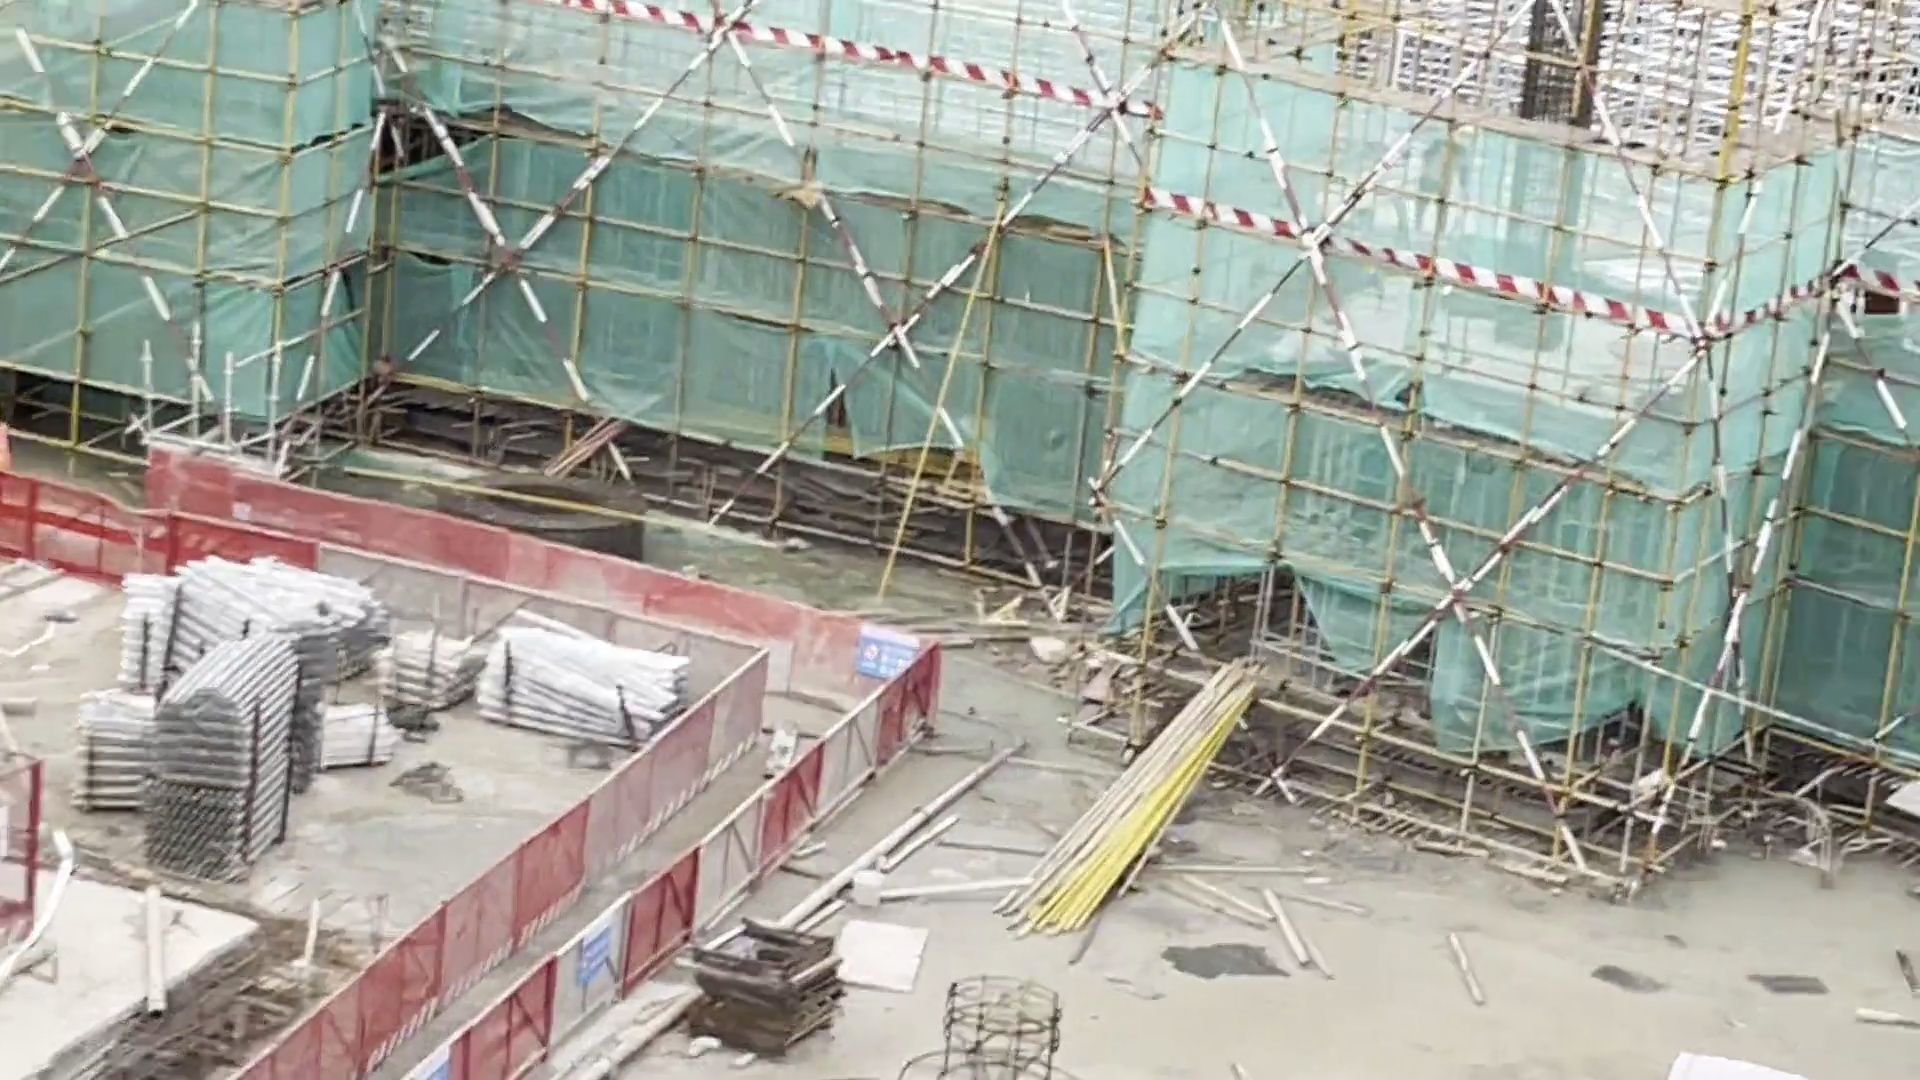fence: (34, 413, 520, 634), (582, 629, 965, 902), (530, 516, 939, 744), (258, 861, 650, 1080)
scaffold: (120, 554, 378, 678), (129, 688, 280, 887), (488, 618, 694, 756), (76, 698, 142, 823), (388, 625, 471, 720), (323, 696, 401, 771)
slogan: (551, 894, 638, 1007), (836, 609, 907, 692)
